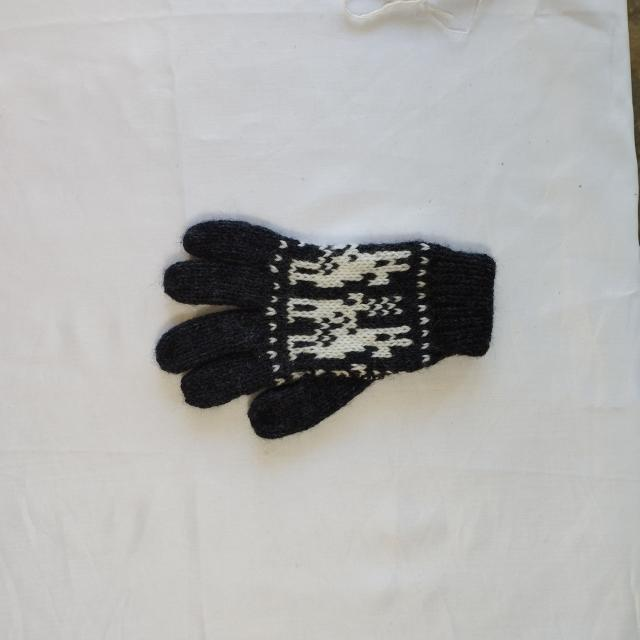Guante: (154, 217, 496, 440)
